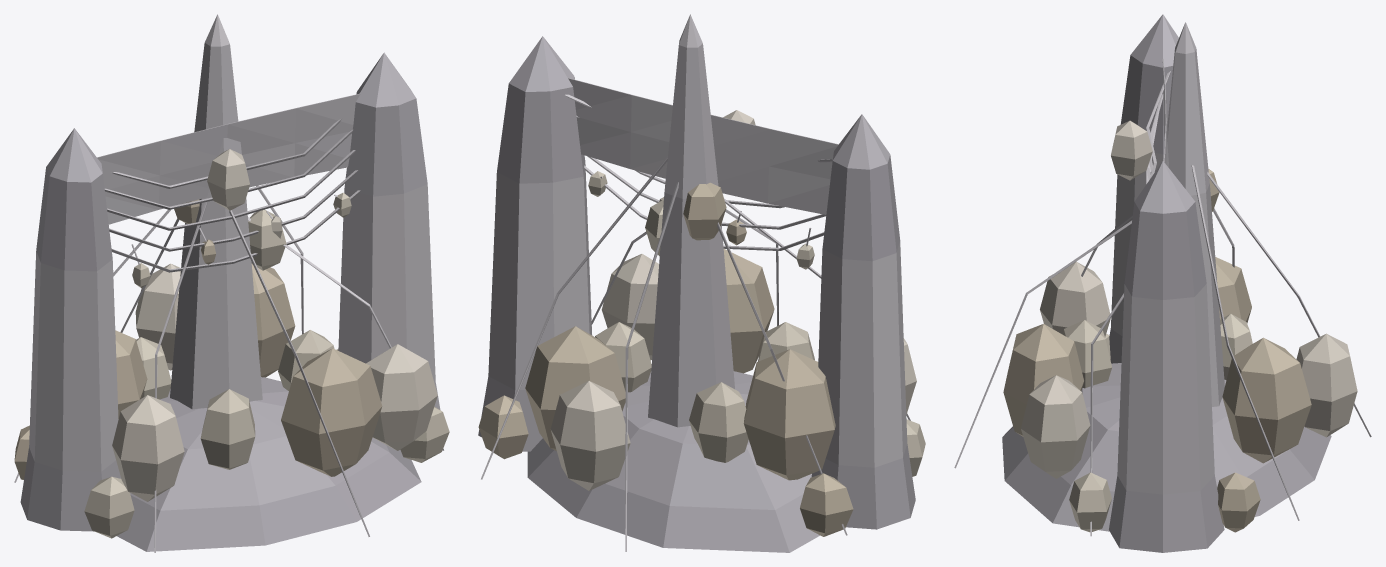
The model's file is nests.glb.
3 views of the same model, side by side, from view 1: azimuth 30°, elevation 25°; view 2: azimuth 150°, elevation 25°; view 3: azimuth 270°, elevation 25° (orthographic). The views are drawn at different scales.
Parts seen in each view (by area): view 1: nests_brood_cluster_a, nests_web_gate_a; view 2: nests_brood_cluster_a, nests_web_gate_a; view 3: nests_brood_cluster_a, nests_web_gate_a.
Part boxes in pixels (left/top/right/bottom): nests_brood_cluster_a: left=14, top=14, right=443, bottom=552; nests_web_gate_a: left=14, top=52, right=449, bottom=538; nests_brood_cluster_a: left=481, top=14, right=916, bottom=552; nests_web_gate_a: left=478, top=36, right=925, bottom=536; nests_brood_cluster_a: left=954, top=22, right=1371, bottom=536; nests_web_gate_a: left=1069, top=14, right=1260, bottom=552.
Bounding box in the file's own units: 3.01 × 3.2 × 2.77.
